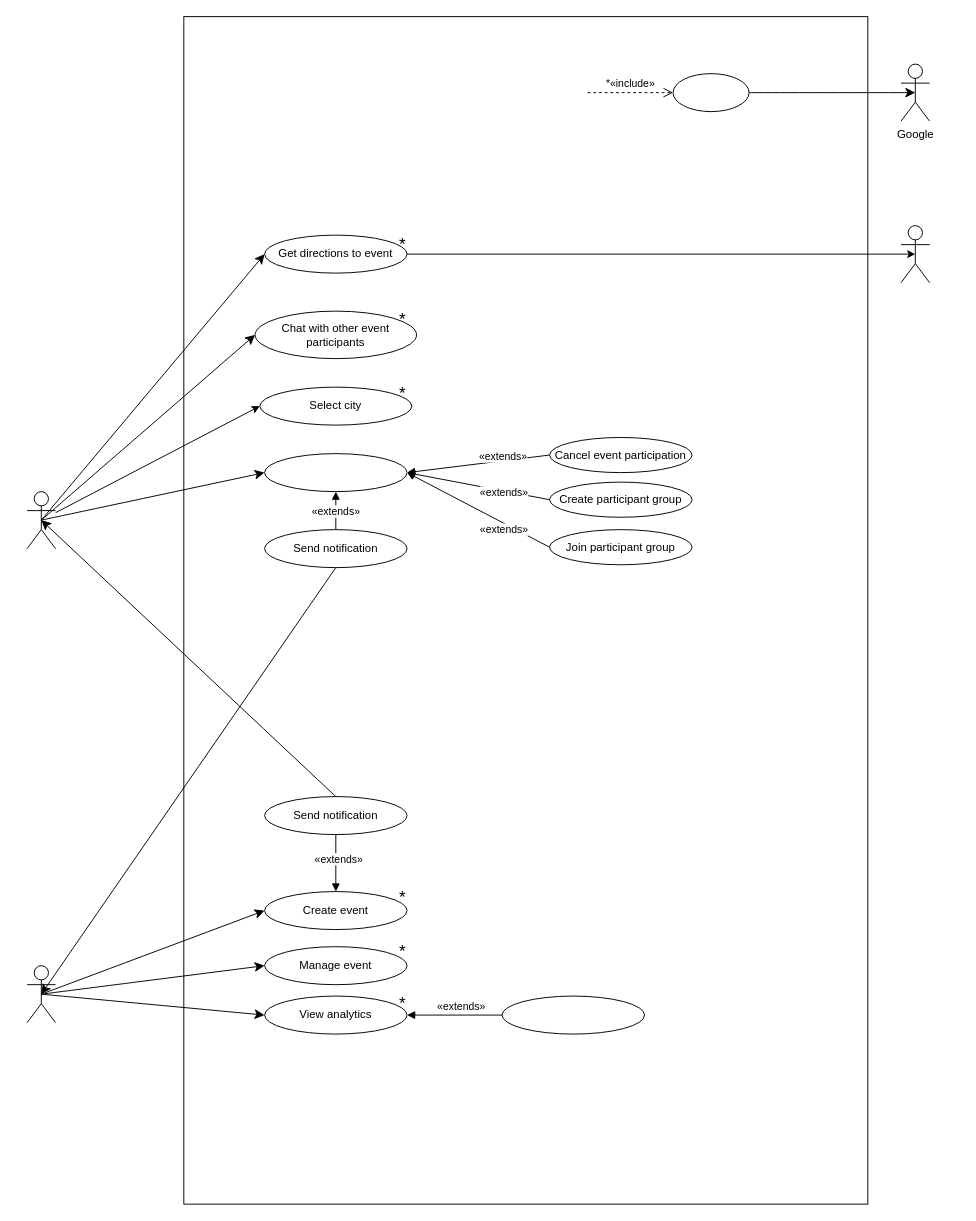
The diagram is 976 pixels wide and 1221 high, and some of its shapes have lost their labels. Each missing label, with the centre of its shape:
"Export as PDF" goes at point 573,1014.
"Google Maps API" goes at point 915,254.
"Login" goes at point 710,92.
"Organizer" goes at point 41,994.
"Plan event participation" goes at point 335,472.
"User" goes at point 41,520.
